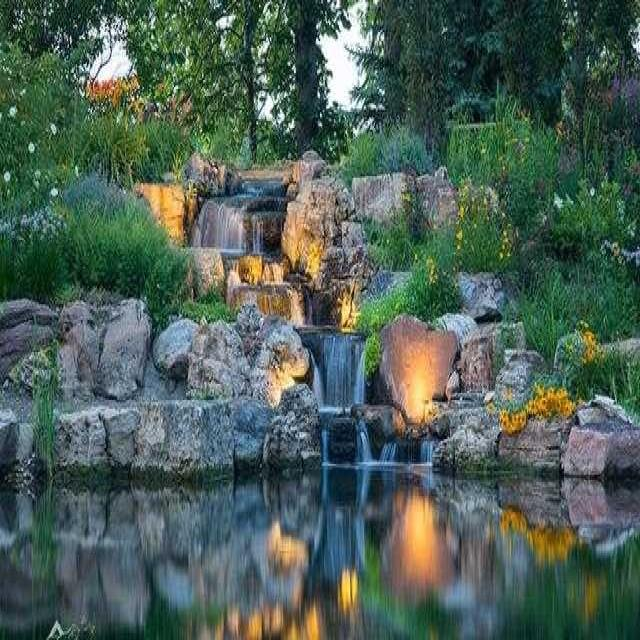Ponds: (1, 386, 640, 640)
